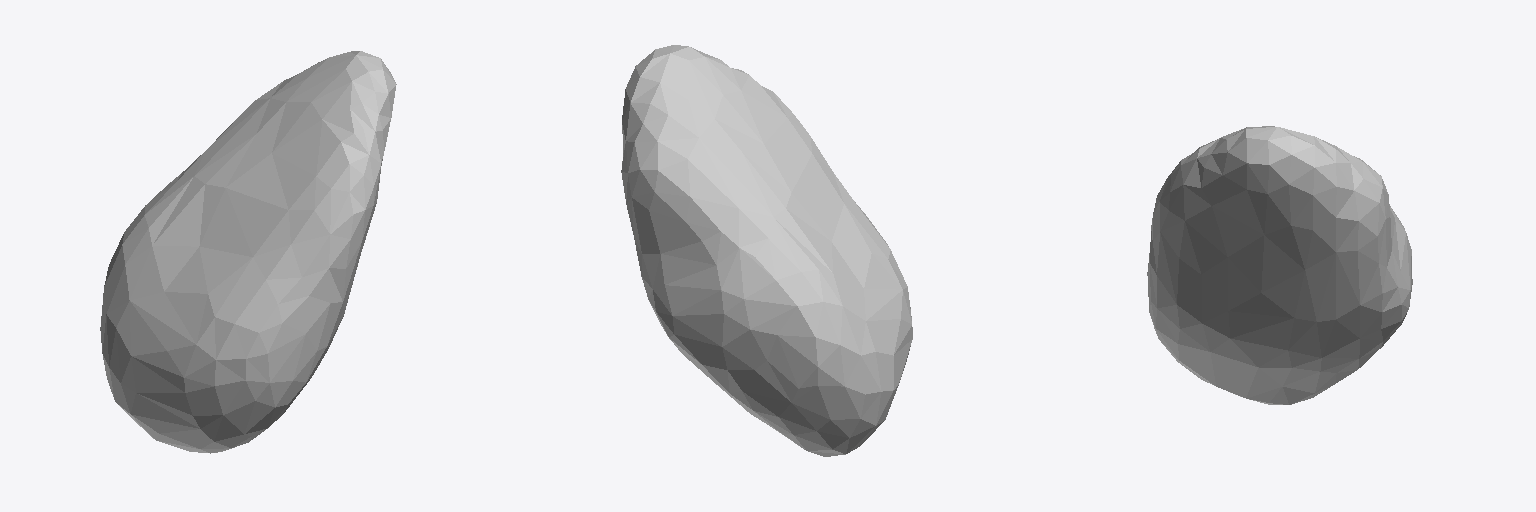
Rendered from left_globus_pallidus.obj.
3 views of the same model, side by side, from view 1: azimuth 30°, elevation 25°; view 2: azimuth 150°, elevation 25°; view 3: azimuth 270°, elevation 25° (orthographic).
Visible parts, largest first — view 1: left_globus_pallidus_left_globus_pallidus; view 2: left_globus_pallidus_left_globus_pallidus; view 3: left_globus_pallidus_left_globus_pallidus.
Boxes of the visible parts, <box> form: left_globus_pallidus_left_globus_pallidus: <box>100,51,396,453</box>; left_globus_pallidus_left_globus_pallidus: <box>621,45,912,456</box>; left_globus_pallidus_left_globus_pallidus: <box>1147,126,1412,404</box>.
Bounding box in the file's own units: 1.36 × 1.77 × 1.2.